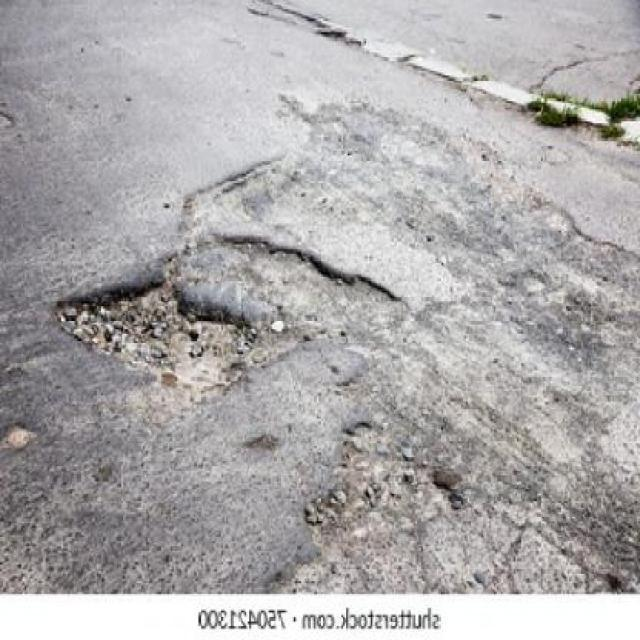Pothole: (50, 229, 405, 399)
